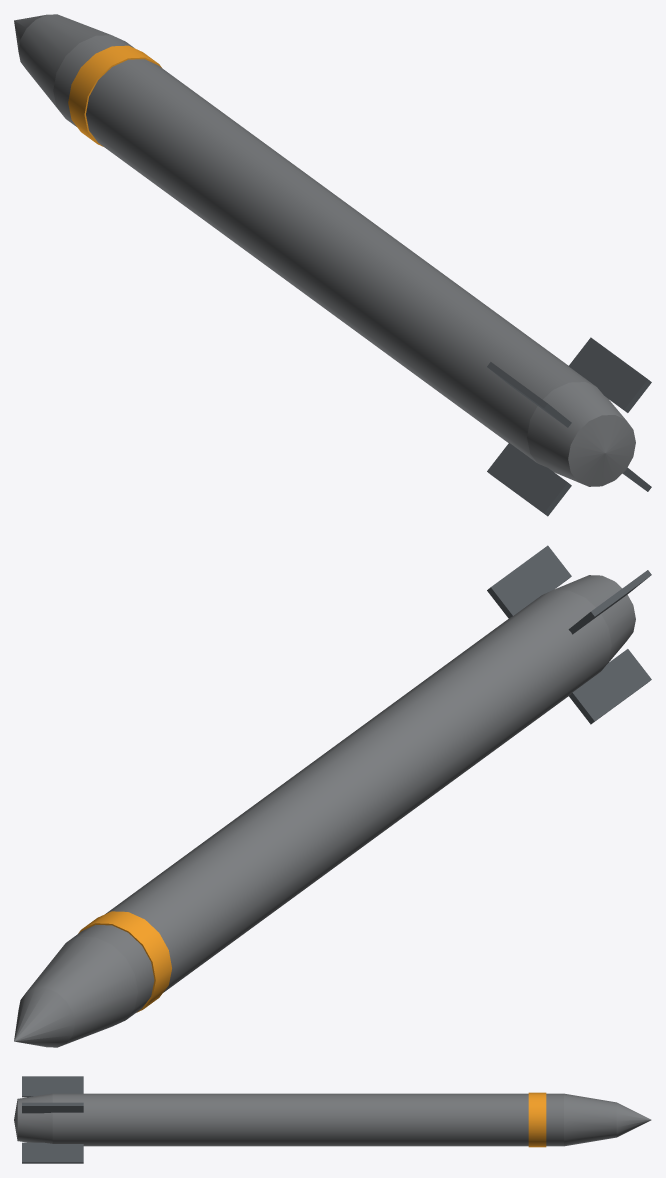
File: wr_missile_1.obj
3 views of the same model, one above another, from view 1: azimuth 30°, elevation 25°; view 2: azimuth 150°, elevation 25°; view 3: azimuth 270°, elevation 25° (orthographic). The views are drawn at different scales.
Parts seen in each view (by area): view 1: wr_missile_1; view 2: wr_missile_1; view 3: wr_missile_1.
Part boxes in pixels (x1,y1,x2,y2): wr_missile_1: (14, 14, 651, 516); wr_missile_1: (14, 545, 651, 1047); wr_missile_1: (14, 1076, 651, 1163).
Bounding box in the file's own units: 0.3818 × 0.3818 × 3.62.
